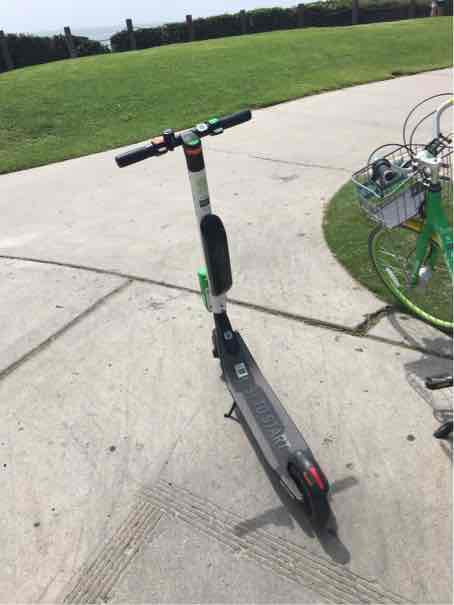scooter: (115, 95, 343, 533)
